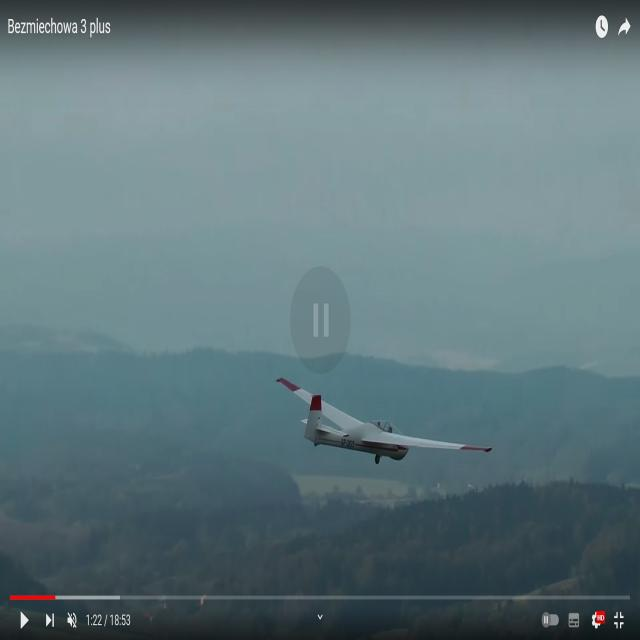iha: (275, 412, 496, 436)
